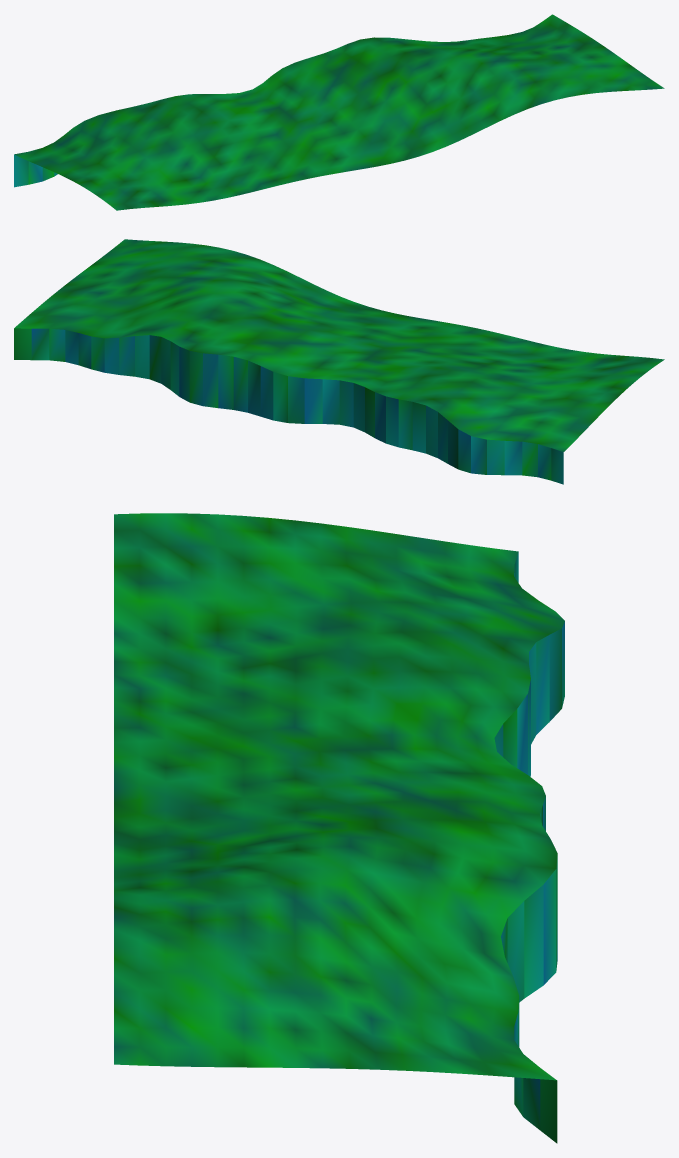
Rendered from BackdropBank_A.fbx.
3 views of the same model, one above another, from view 1: azimuth 30°, elevation 25°; view 2: azimuth 150°, elevation 25°; view 3: azimuth 270°, elevation 25° (orthographic). The views are drawn at different scales.
Visible parts, largest first — view 1: BackdropBank_A; view 2: BackdropBank_A; view 3: BackdropBank_A.
Part boxes in pixels (<box>): BackdropBank_A: <box>14,14,664,210</box>; BackdropBank_A: <box>14,239,664,484</box>; BackdropBank_A: <box>114,513,564,1143</box>.
Bounding box in the file's own units: 18 × 2.07 × 6.51.
